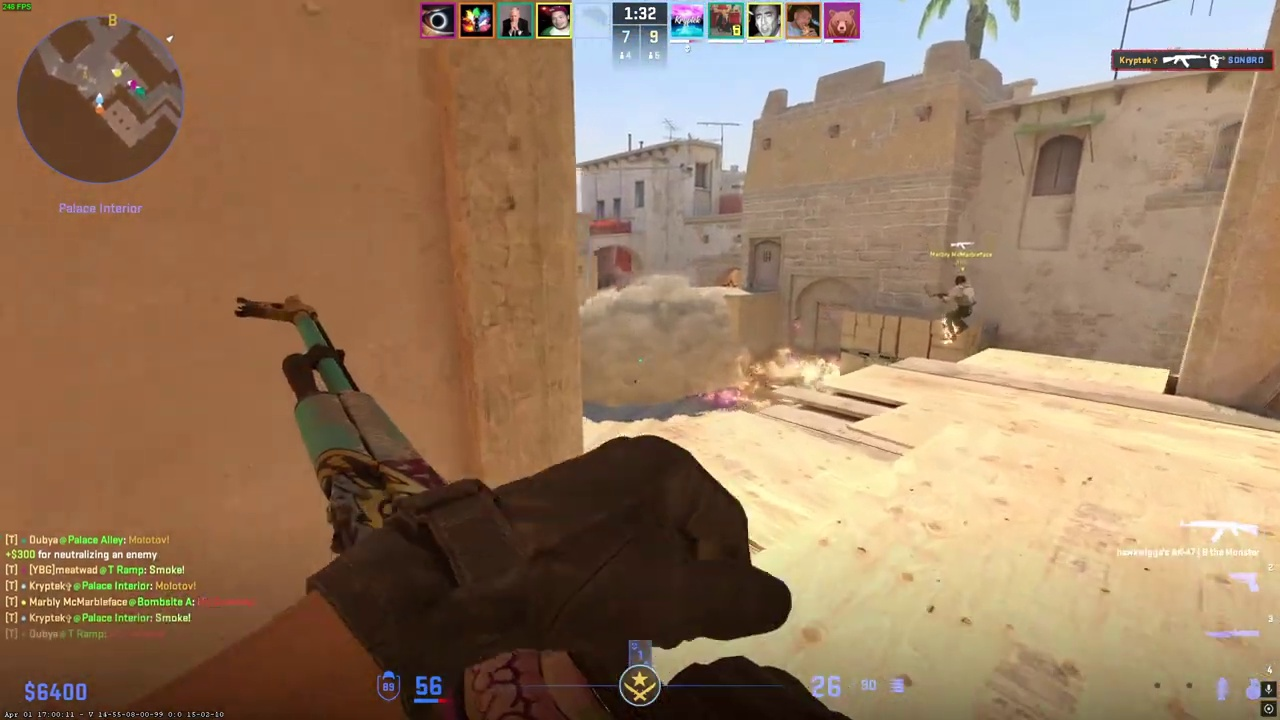Terrorist: (945, 275, 975, 338)
